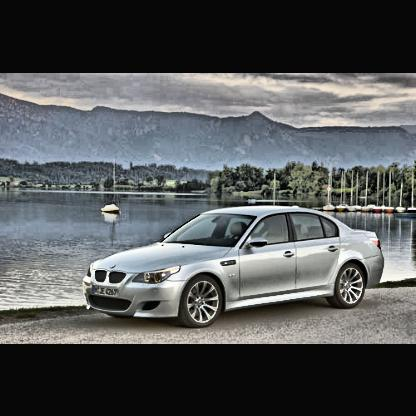BMW M5 Sedan 2010: (85, 206, 387, 329)
